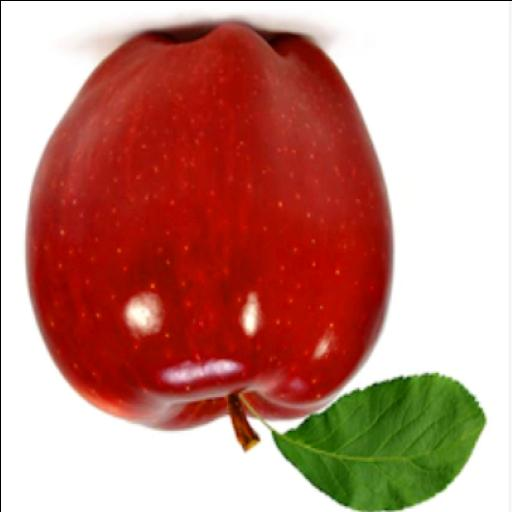apple: (28, 23, 391, 428)
